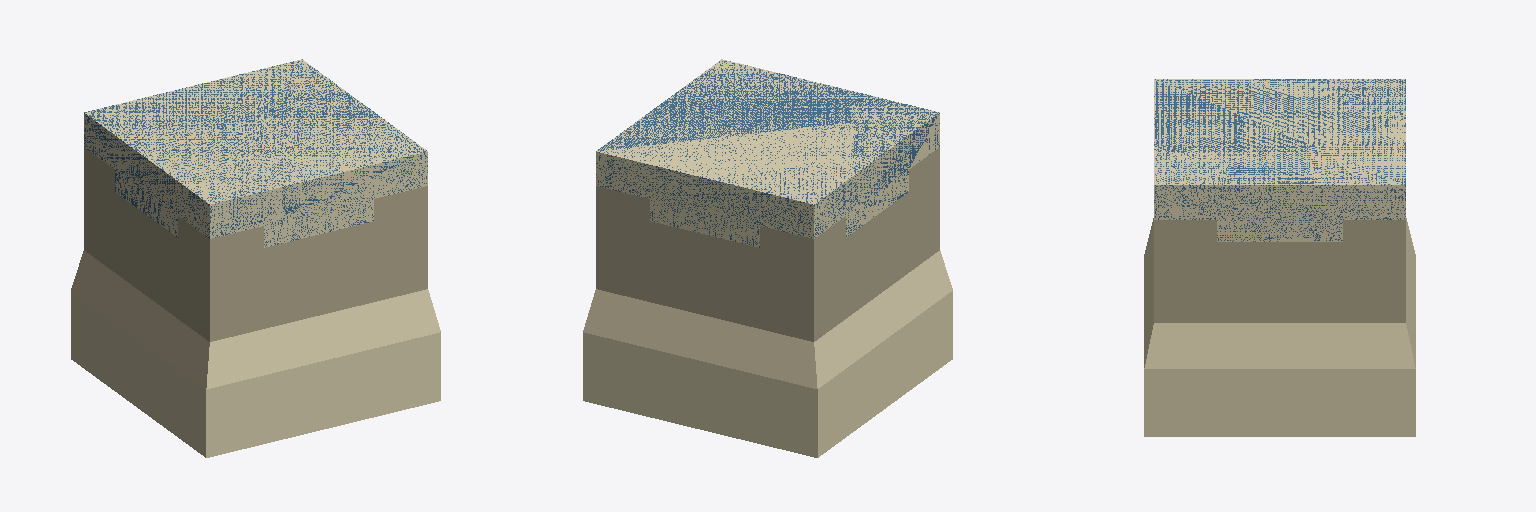
The model's file is towerSquareBaseColor.obj.
The picture shows the model from 3 angles: view 1: azimuth 30°, elevation 25°; view 2: azimuth 150°, elevation 25°; view 3: azimuth 270°, elevation 25°; orthographic projection.
Visible parts, largest first — view 1: towerSquareBaseColor; view 2: towerSquareBaseColor; view 3: towerSquareBaseColor.
Part boxes in pixels (left/top/right/bottom): towerSquareBaseColor: left=71, top=59, right=440, bottom=457; towerSquareBaseColor: left=583, top=59, right=952, bottom=457; towerSquareBaseColor: left=1144, top=79, right=1415, bottom=436.
Size of the model in its own units: 10 by 10.1 by 10.